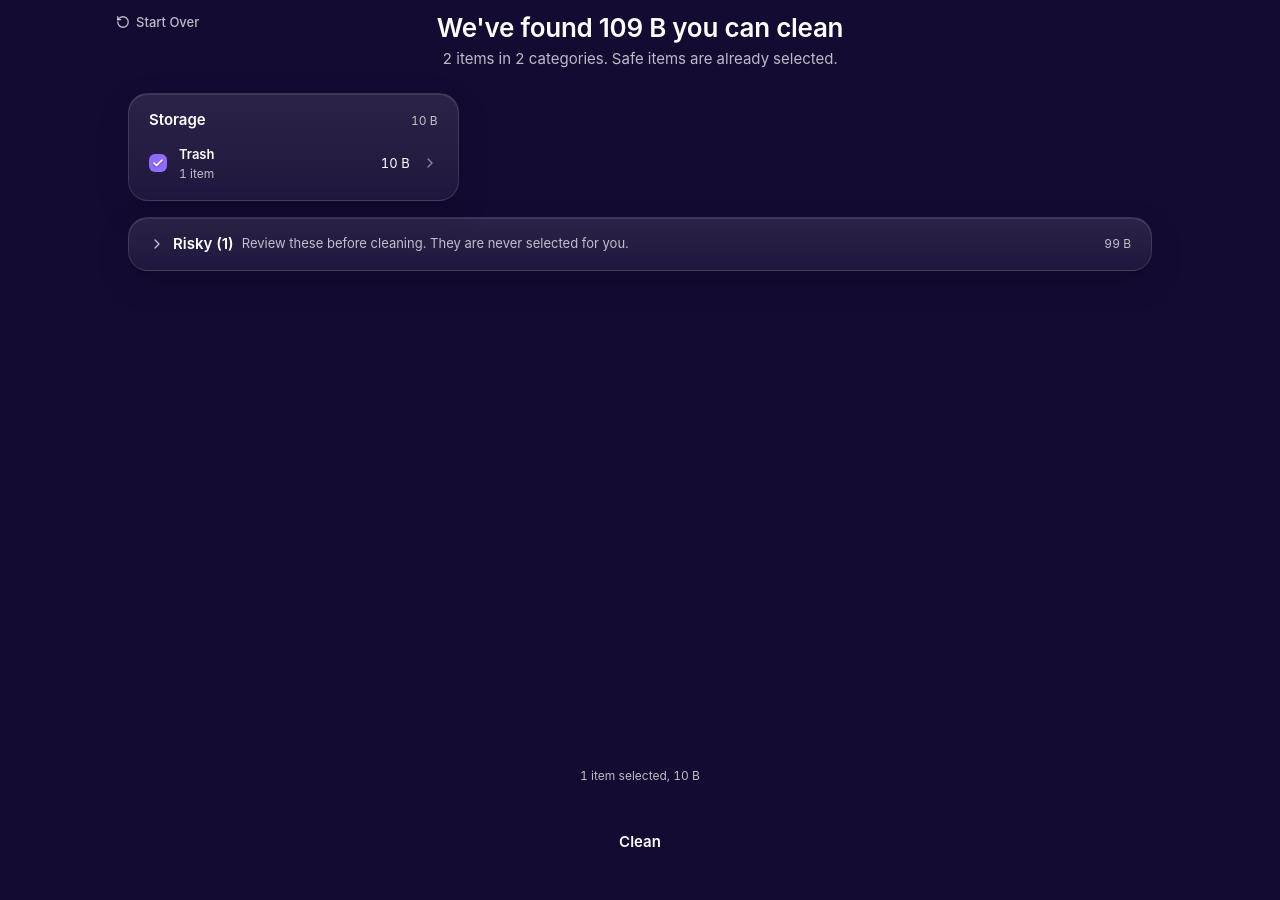
risky group in results state › is collapsed by default: risky card hidden until the chevron is clicked
Check: the text "Trash" is shown, box x1=179 y1=146 x2=214 y2=162
Check: the text "iOS Backups" is not shown
Click the text "Risky (1)".
click(203, 244)  # box x1=173 y1=234 x2=234 y2=254
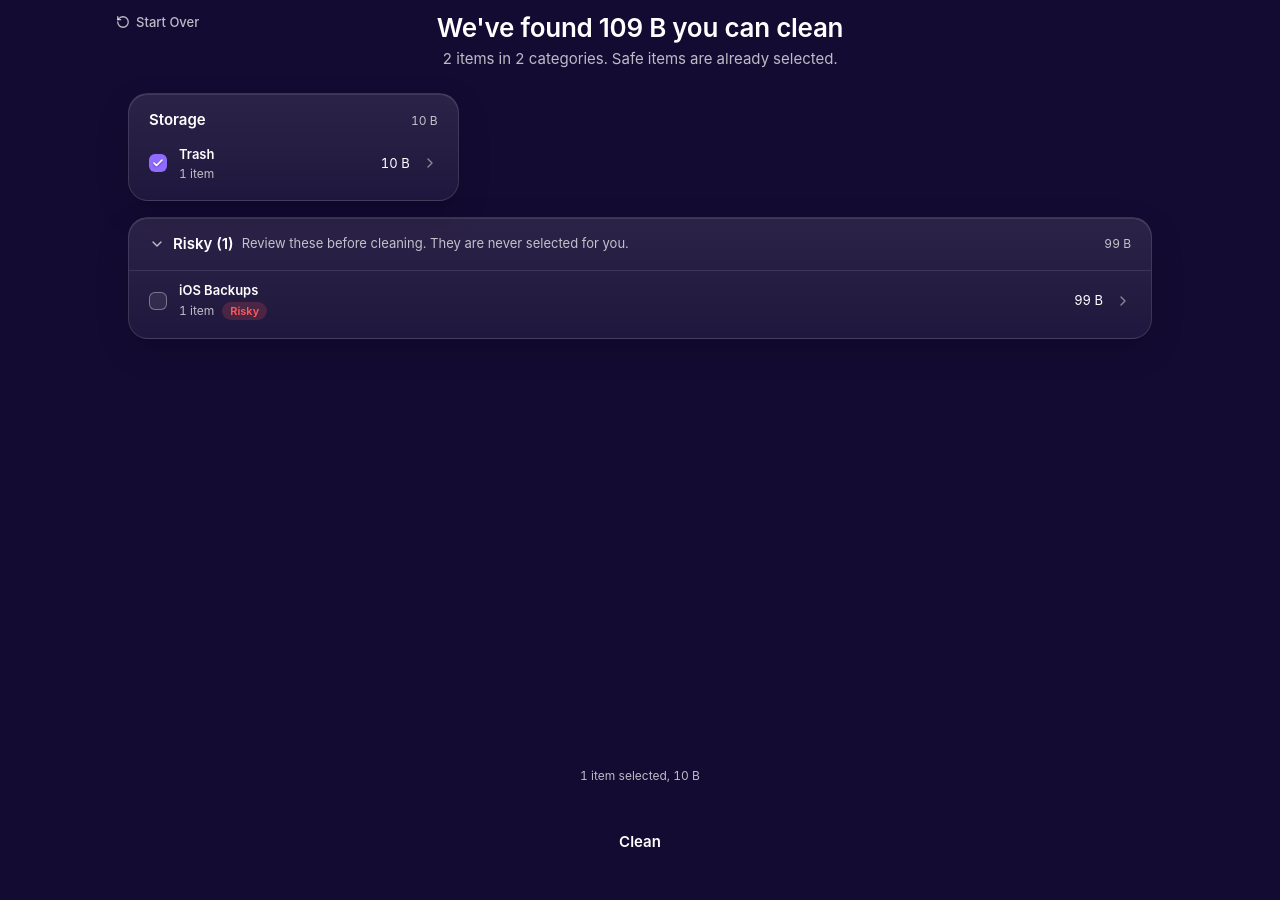
Check: the text "iOS Backups" is shown, box x1=179 y1=282 x2=258 y2=298
